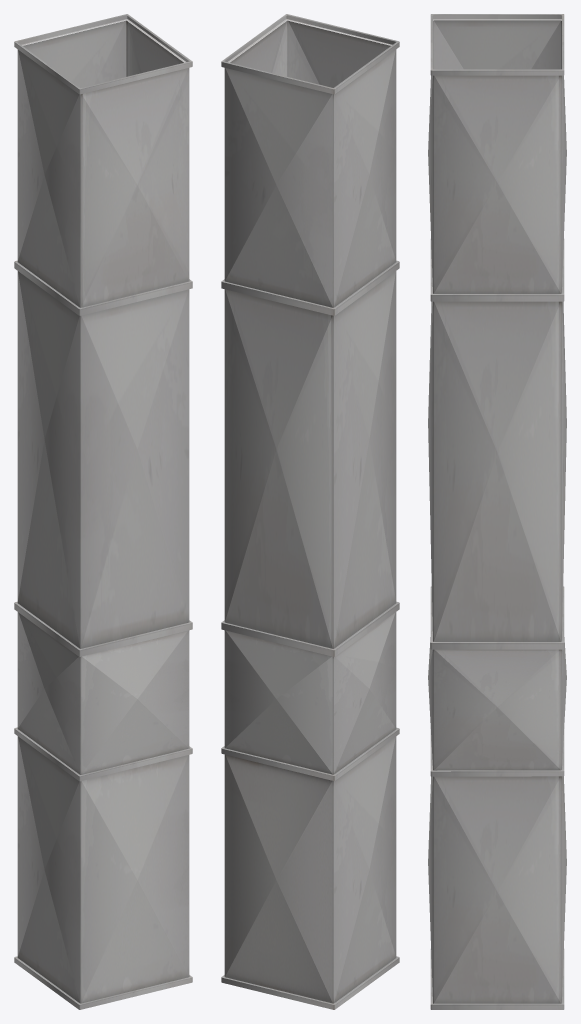
File: props_spytech_vent_system_straight_256_small.glb
3 views of the same model, side by side, from view 1: azimuth 30°, elevation 25°; view 2: azimuth 150°, elevation 25°; view 3: azimuth 270°, elevation 25° (orthographic). The views are drawn at different scales.
Parts seen in each view (by area): view 1: models/props_spytech/vent_system_straight_256_small; view 2: models/props_spytech/vent_system_straight_256_small; view 3: models/props_spytech/vent_system_straight_256_small.
Part boxes in pixels (x1,y1,x2,y2): models/props_spytech/vent_system_straight_256_small: (14,14,192,1009); models/props_spytech/vent_system_straight_256_small: (221,14,399,1009); models/props_spytech/vent_system_straight_256_small: (428,14,566,1009).
Size of the model in its own units: 34.5 by 257 by 34.5.
1 material, 1 textured.
